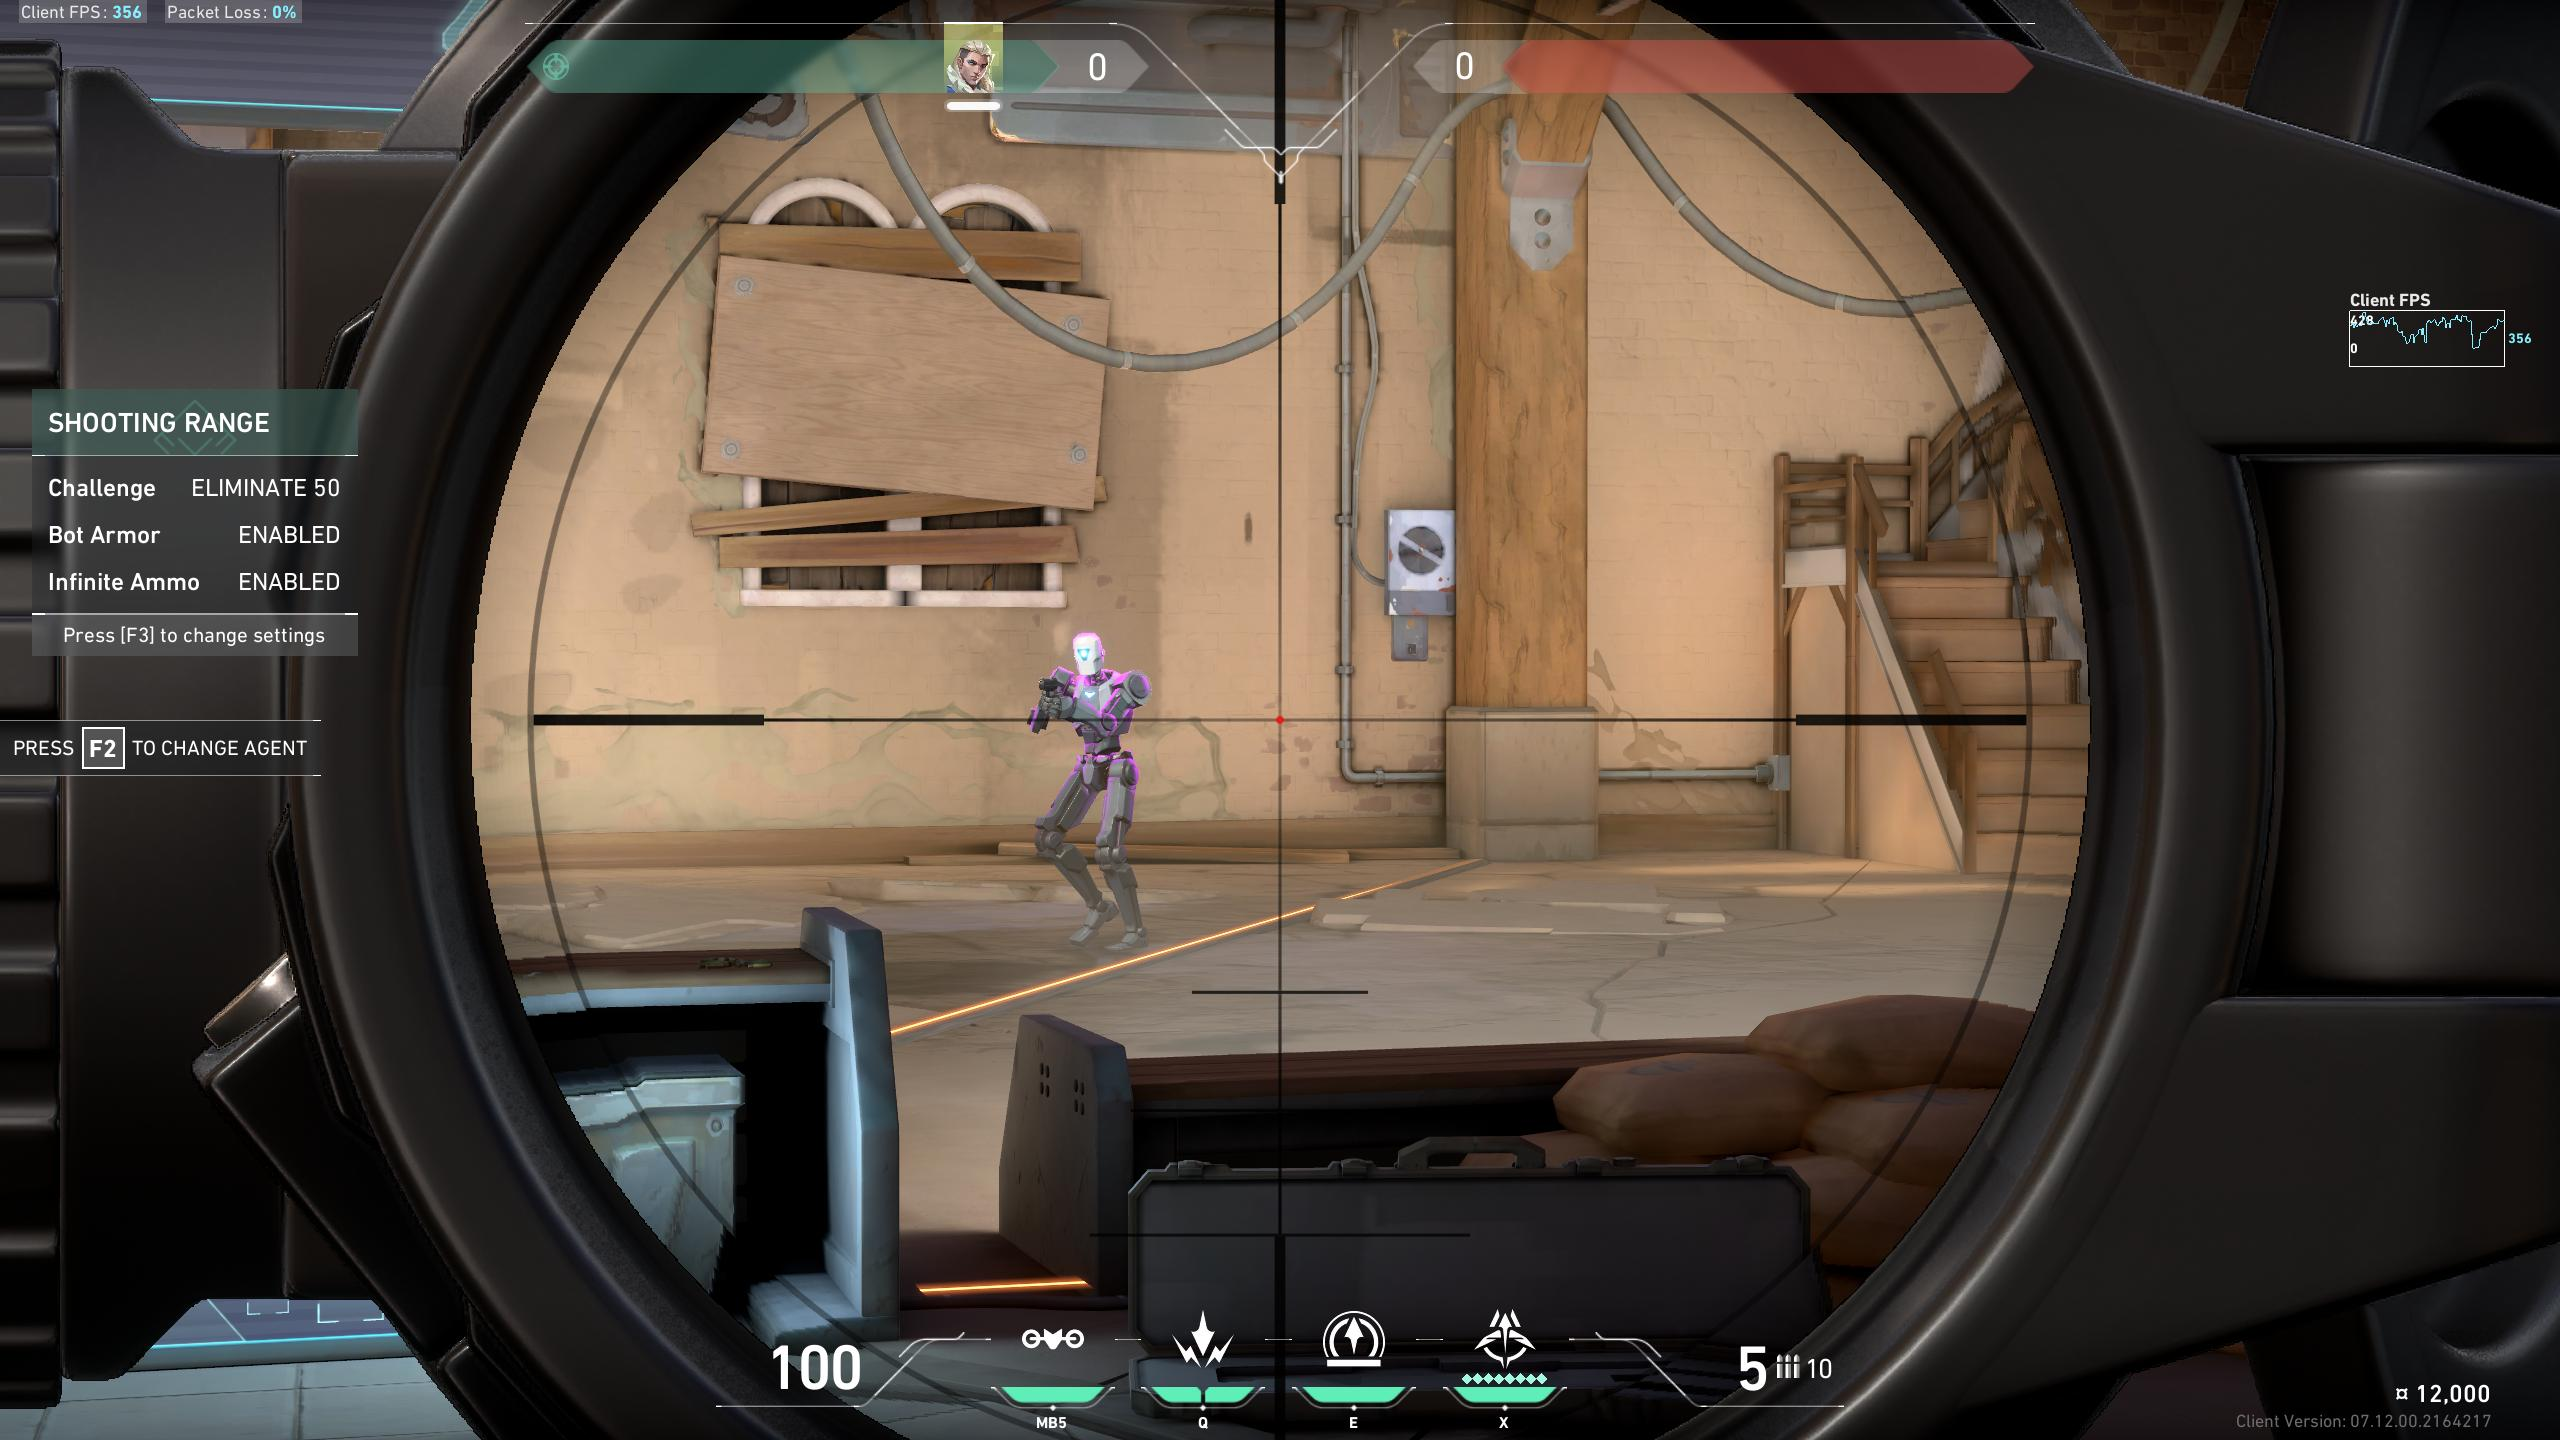enemyBody: (1051, 673, 1139, 777)
enemyHead: (1069, 635, 1115, 675)
